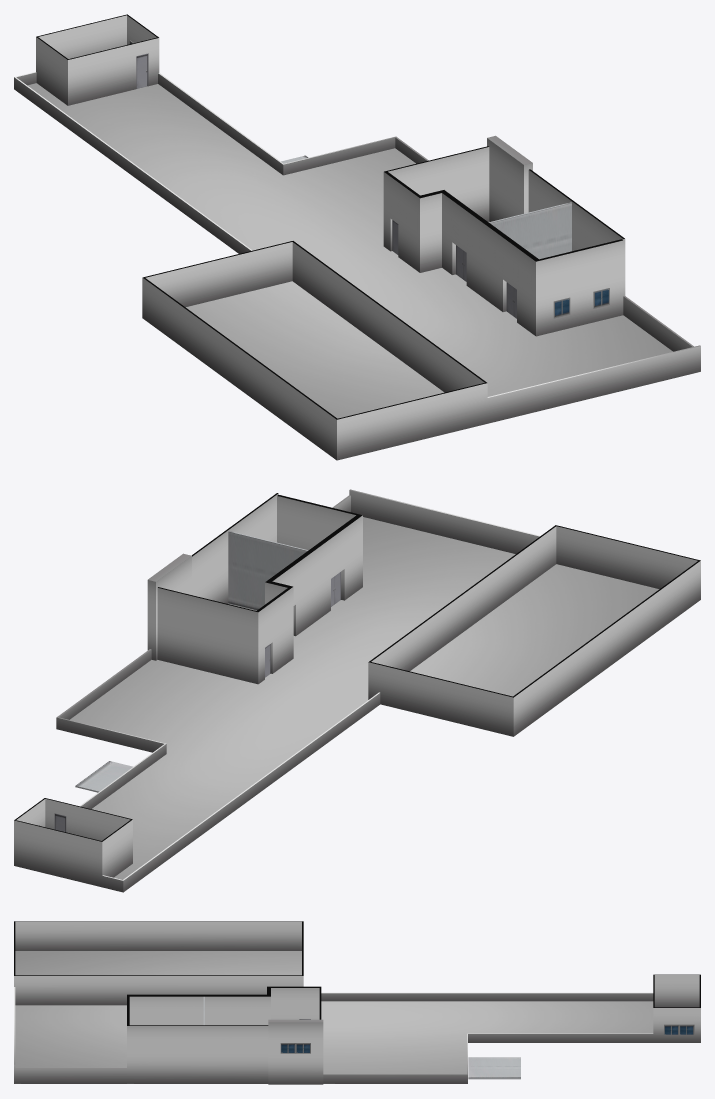
Rendered from soulbrain_F-11-3F.glb.
3 renders of one model, top to bottom at view 1: azimuth 30°, elevation 25°; view 2: azimuth 150°, elevation 25°; view 3: azimuth 270°, elevation 25°, orthographic. The views are drawn at different scales.
Visible parts, largest first — view 1: F-11-3F, Box368; view 2: F-11-3F, Box368, Box369; view 3: F-11-3F, Box368, Box369.
Part boxes in pixels (x1,y1,x2,y2): F-11-3F: (14, 14, 700, 460); Box368: (27, 83, 672, 418); F-11-3F: (14, 489, 700, 892); Box368: (70, 517, 659, 879); Box369: (75, 761, 132, 792); F-11-3F: (14, 921, 700, 1084); Box368: (15, 951, 653, 1074); Box369: (468, 1057, 520, 1079).
Bounding box in the file's own units: 26.83 × 7.28 × 58.41.
8 materials, 7 textured.
